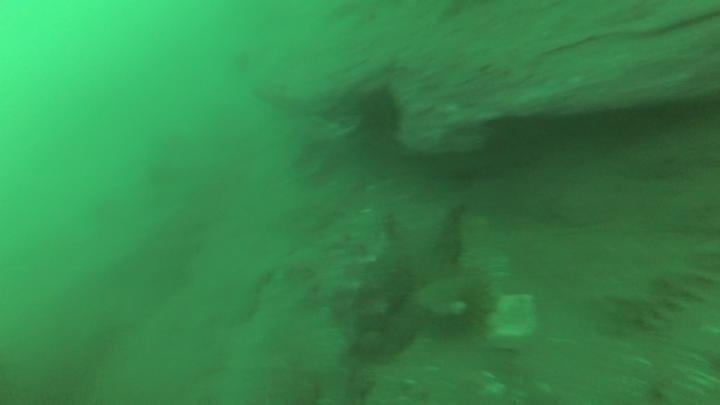echinus: (353, 84, 405, 144)
holothurian: (597, 247, 717, 335)
